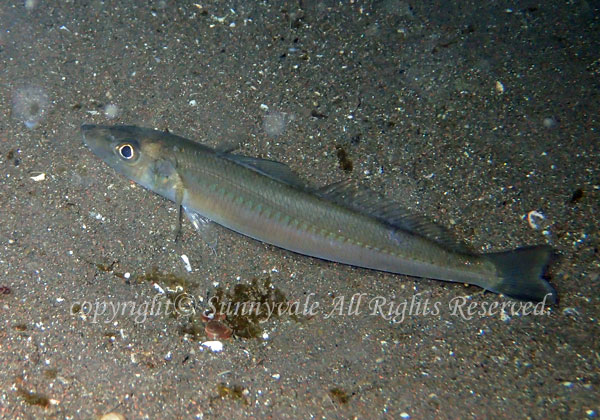kiss: (72, 114, 551, 300)
